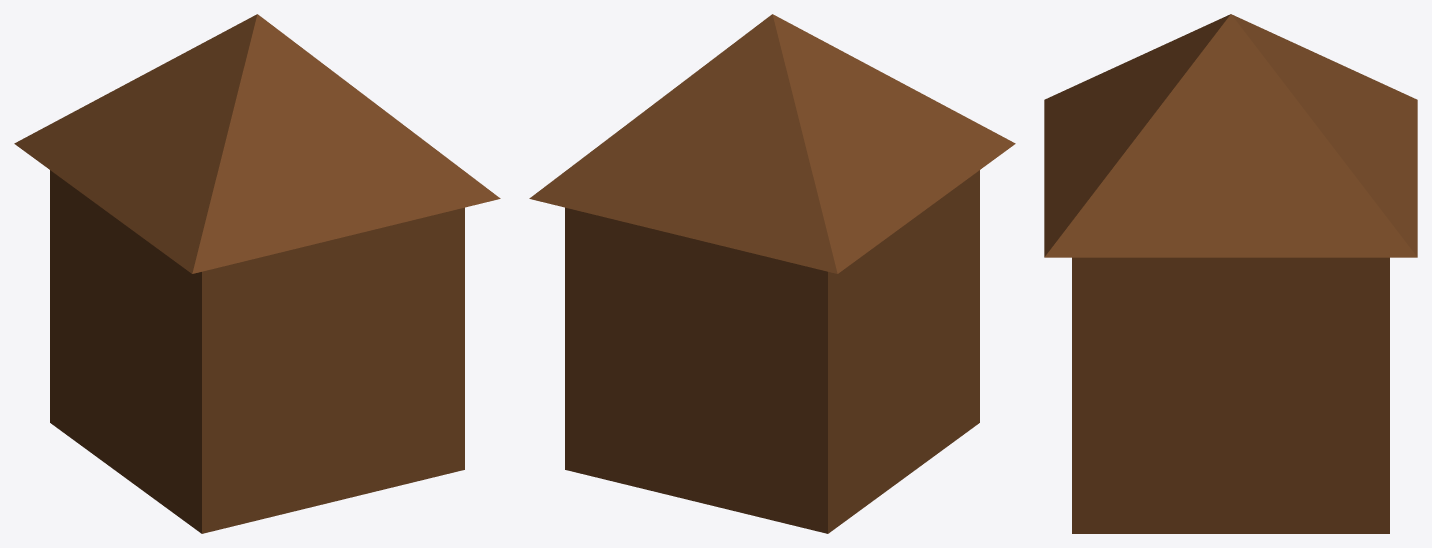
Rendered from house2.gltf.
The picture shows the model from 3 angles, left to right: view 1: azimuth 30°, elevation 25°; view 2: azimuth 150°, elevation 25°; view 3: azimuth 270°, elevation 25°; orthographic projection. The views are drawn at different scales.
Parts seen in each view (by area): view 1: Cube; view 2: Cube; view 3: Cube.
Boxes of the visible parts, box(x1,y1,x2,y2) form: Cube: box(14, 14, 500, 533); Cube: box(529, 14, 1015, 533); Cube: box(1044, 14, 1417, 533).
Bounding box in the file's own units: 2.35 × 3.14 × 2.35.
